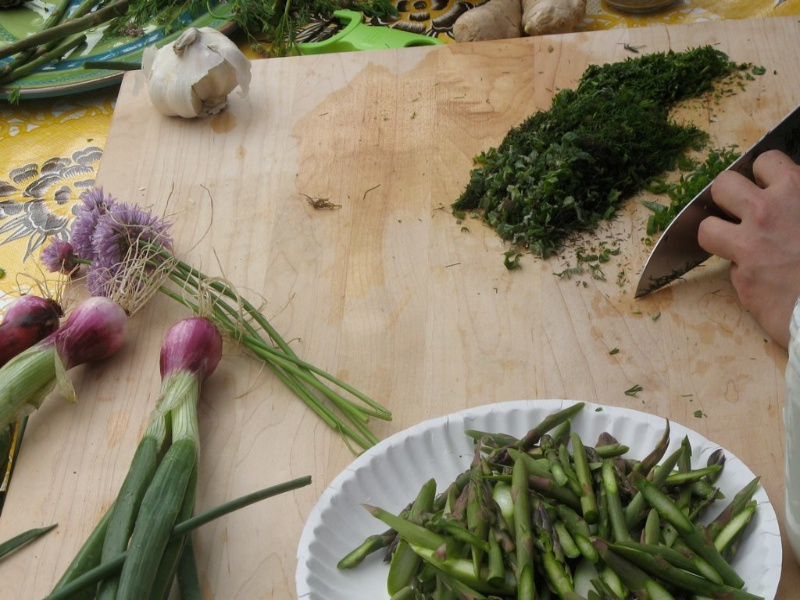knife: (634, 102, 800, 298)
